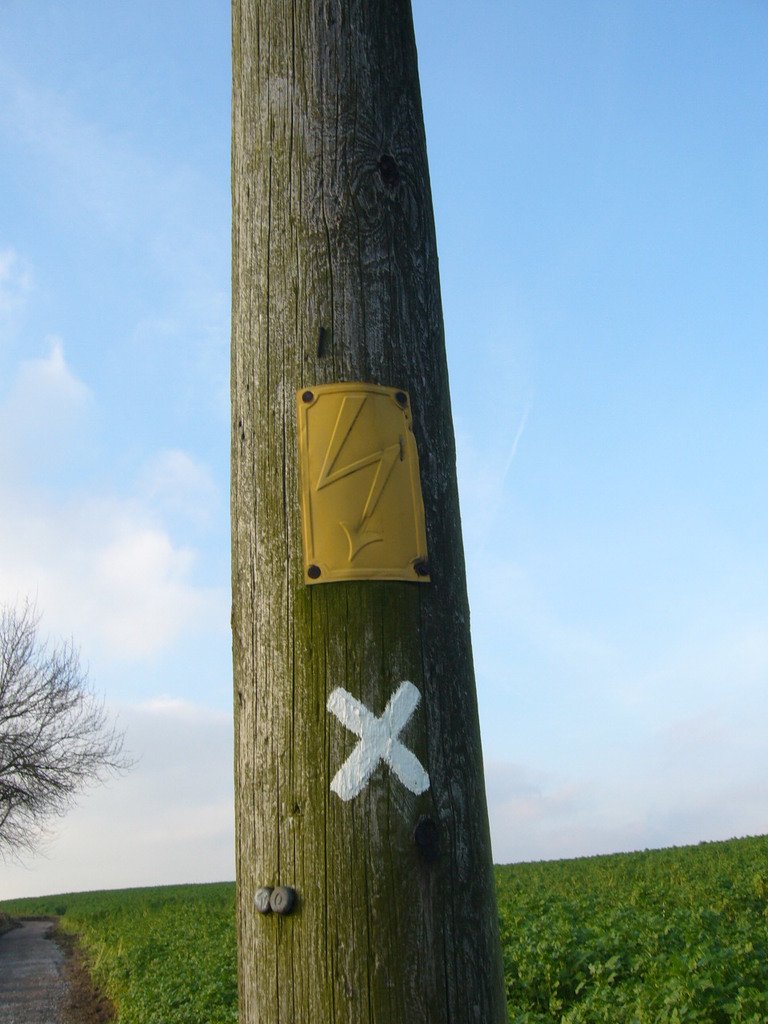Tree: (0, 582, 145, 871)
